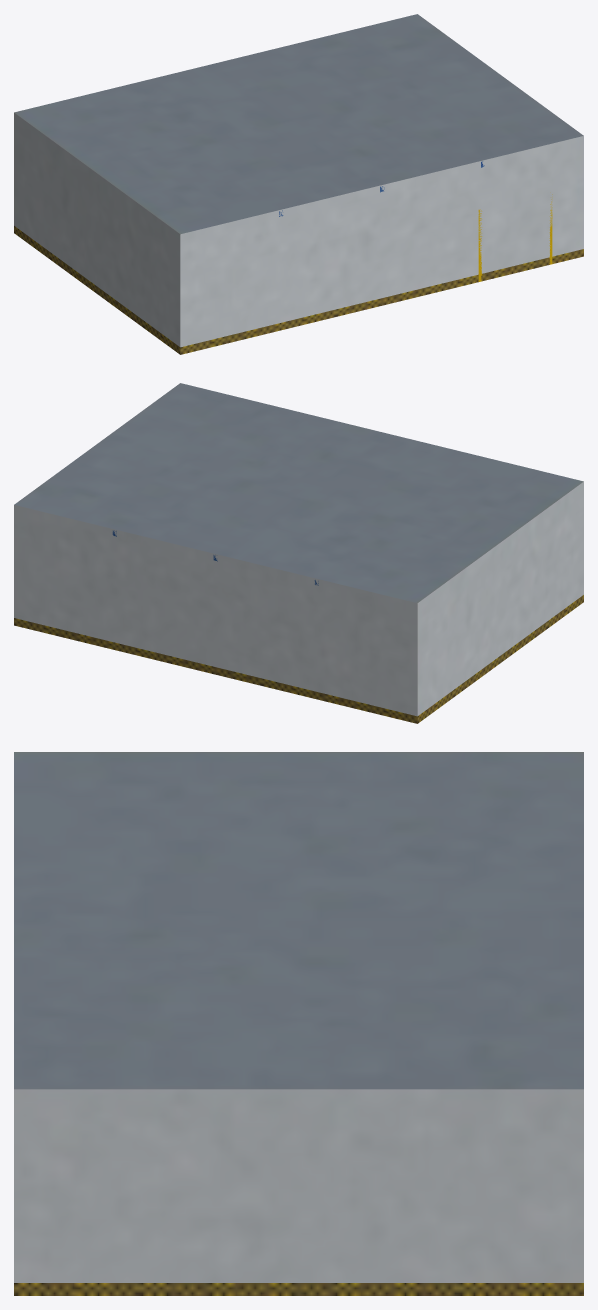
File: Deposito_web.glb
The picture shows the model from 3 angles, top to bottom: view 1: azimuth 30°, elevation 25°; view 2: azimuth 150°, elevation 25°; view 3: azimuth 270°, elevation 25°; orthographic projection. The views are drawn at different scales.
Parts seen in each view (by area): view 1: Building; view 2: Building; view 3: Building.
Boxes of the visible parts, bbox=[...] form: Building: bbox=[14, 14, 583, 354]; Building: bbox=[14, 383, 583, 723]; Building: bbox=[14, 752, 583, 1295].
Bounding box in the file's own units: 28 × 8 × 20.
1 material, 1 textured.
